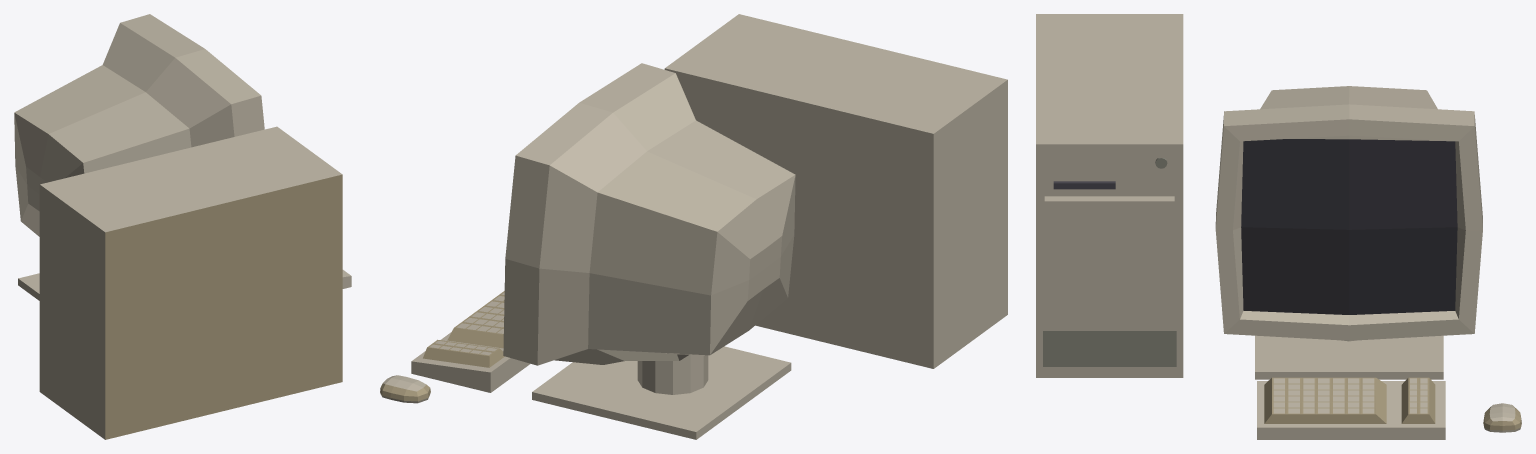
File: PCComputer.fbx
The picture shows the model from 3 angles, left to right: view 1: azimuth 30°, elevation 25°; view 2: azimuth 150°, elevation 25°; view 3: azimuth 270°, elevation 25°; orthographic projection. The views are drawn at different scales.
Visible parts, largest first — view 1: Cube.001, Cube; view 2: Cube, Cube.001, Cube.002, Cube.003; view 3: Cube, Cube.001, Cube.002, Cube.003.
Boxes of the visible parts, left/top/right/bottom form: Cube.001: left=39, top=126, right=342, bottom=439; Cube: left=14, top=14, right=264, bottom=300; Cube: left=503, top=63, right=795, bottom=439; Cube.001: left=664, top=14, right=1007, bottom=368; Cube.002: left=411, top=291, right=530, bottom=392; Cube.003: left=380, top=375, right=430, bottom=403; Cube: left=1215, top=86, right=1482, bottom=379; Cube.001: left=1036, top=14, right=1183, bottom=377; Cube.002: left=1257, top=377, right=1445, bottom=439; Cube.003: left=1483, top=403, right=1521, bottom=432.
Bounding box in the file's own units: 92.24 × 59.76 × 100.
